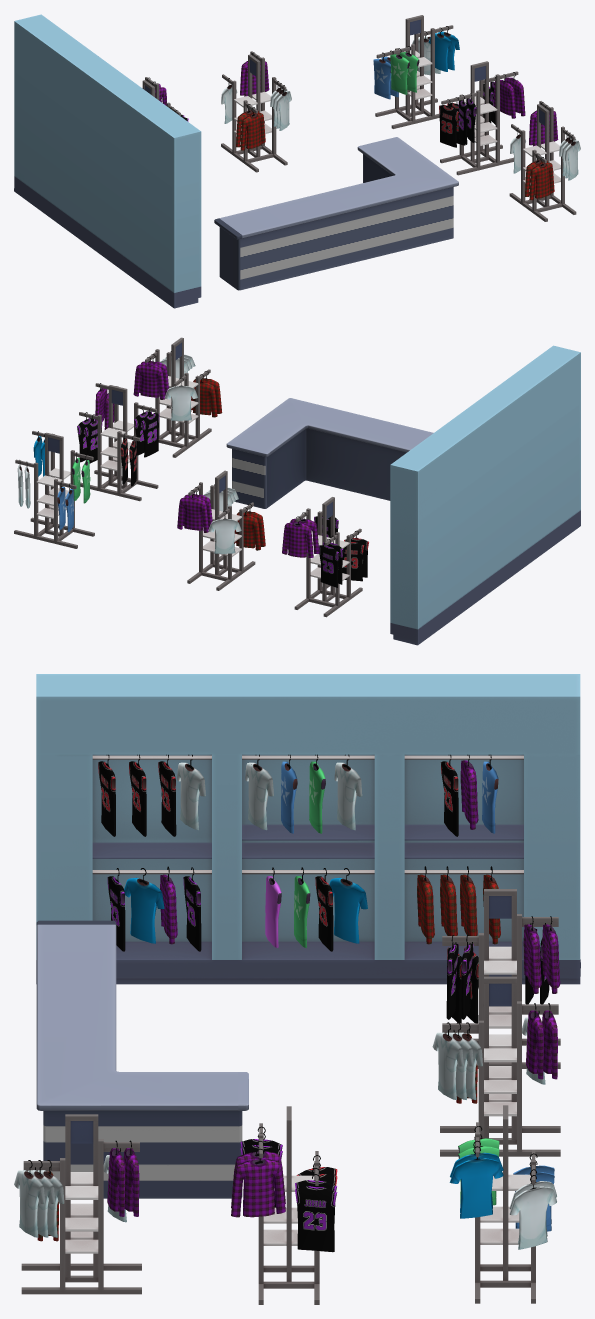
The model's file is FashionShop.fbx.
3 renders of one model, top to bottom at view 1: azimuth 30°, elevation 25°; view 2: azimuth 150°, elevation 25°; view 3: azimuth 270°, elevation 25°, orthographic. The views are drawn at different scales.
Parts seen in each view (by area): view 1: Clothes_BIG, Box, Clothes_S04, Clothes_S03, Clothes_S02, Clothes_S05, Clothes_S01; view 2: Clothes_BIG, Box, Clothes_S04, Clothes_S01, Clothes_S02, Clothes_S05, Clothes_S03; view 3: Clothes_BIG, Box, Clothes_S05, Clothes_S02, Clothes_S04, Clothes_S03, Clothes_S01.
Part boxes in pixels (x1,y1,x2,y2): Clothes_BIG: (14,14,201,308); Box: (214,137,458,290); Clothes_S04: (439,61,525,175); Clothes_S03: (373,15,459,128); Clothes_S02: (221,51,291,172); Clothes_S05: (509,101,580,221); Clothes_S01: (142,77,188,121); Clothes_BIG: (390,345,580,645); Box: (226,398,433,508); Clothes_S04: (77,383,159,501); Clothes_S01: (282,497,368,617); Clothes_S02: (177,470,265,590); Clothes_S05: (133,337,222,457); Clothes_S03: (14,431,94,548); Clothes_BIG: (36,674,580,984); Box: (36,920,248,1198); Clothes_S05: (14,1114,141,1294); Clothes_S02: (432,976,560,1156); Clothes_S04: (231,1106,337,1304); Clothes_S03: (449,1105,556,1303); Clothes_S01: (442,889,560,1068).
Size of the model in its own units: 122 by 48.23 by 85.48.
